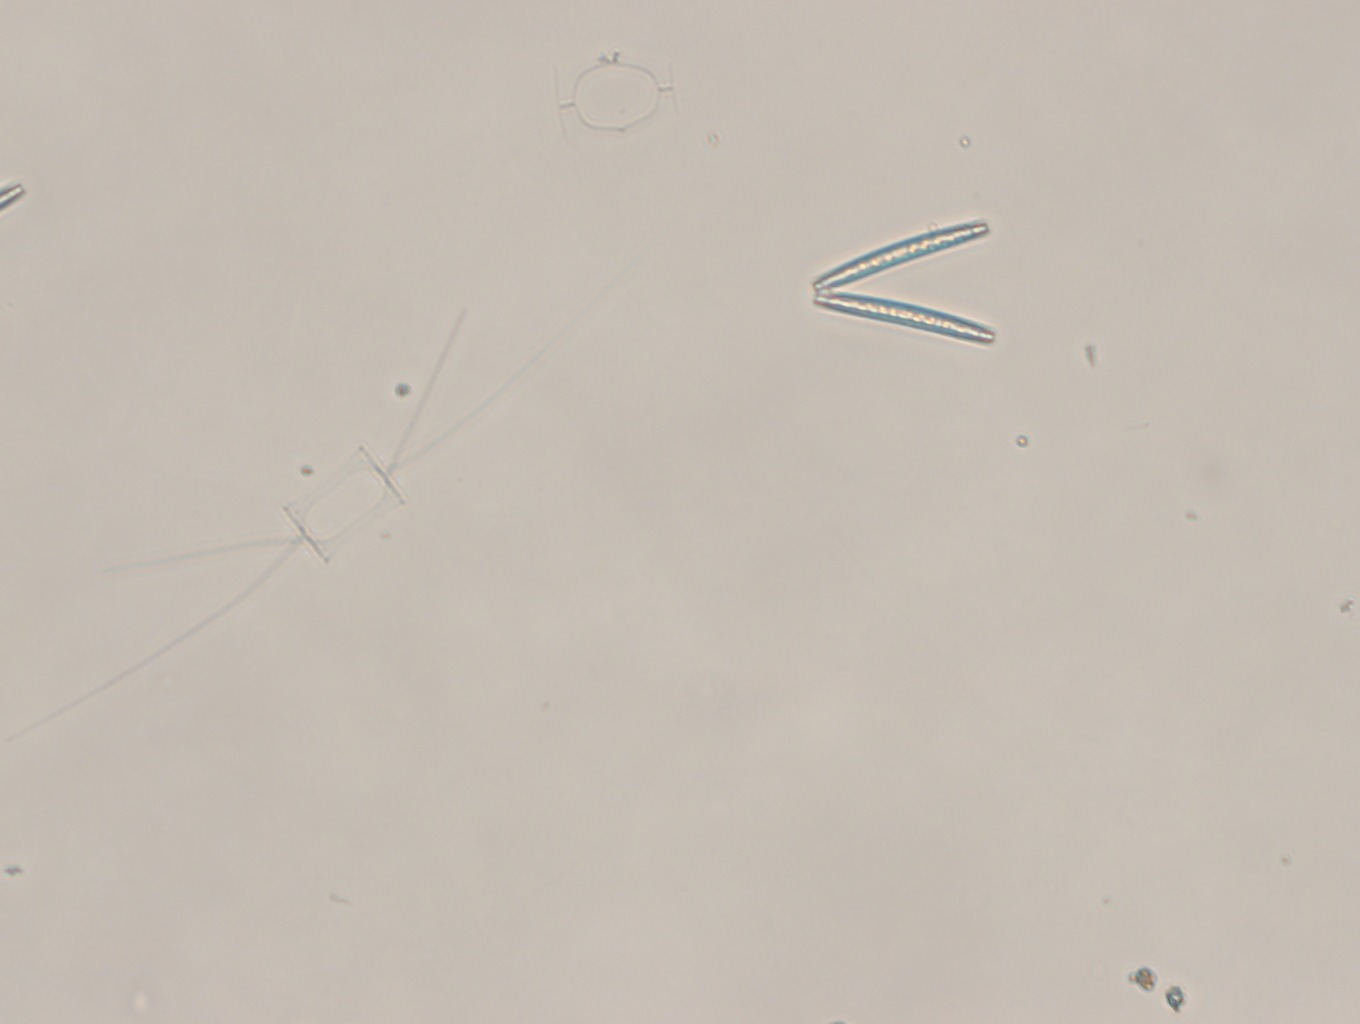chaetoceros: (37, 297, 571, 731)
thalassionema nitzschioides: (810, 214, 1018, 349)
